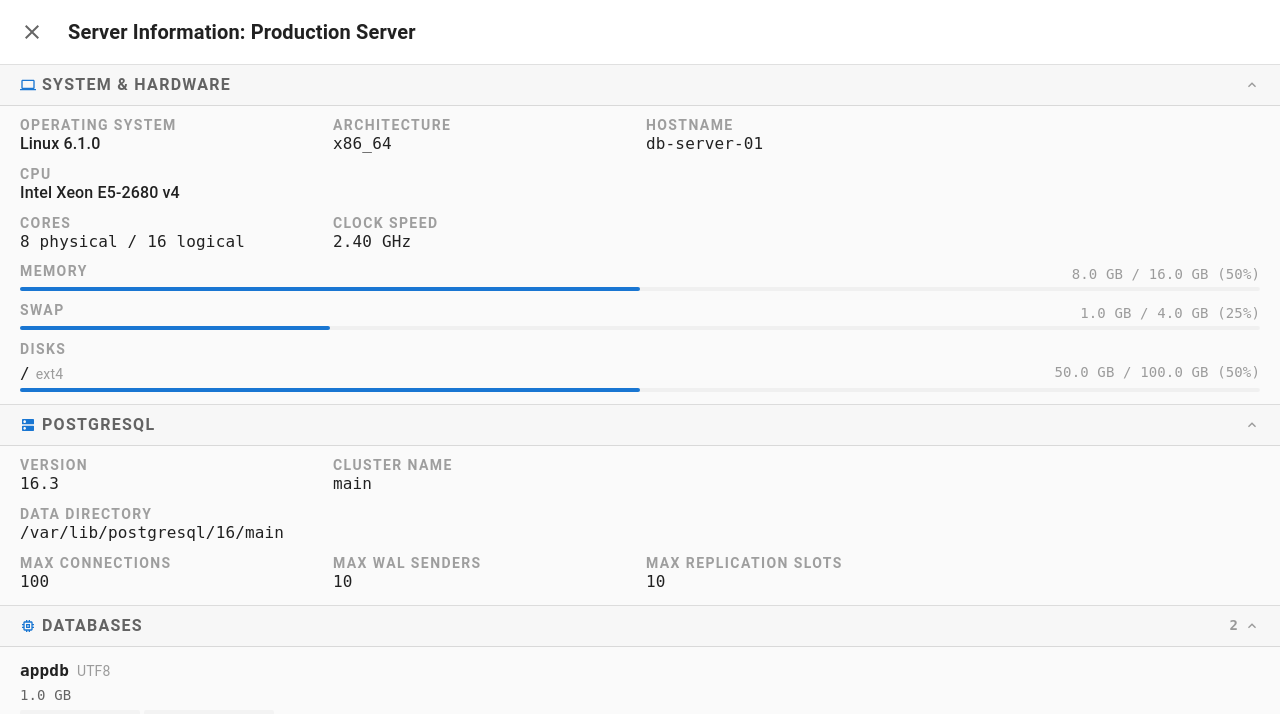
Test case: ServerInfoDialog › collapsible sections › collapses System & Hardware section on click
Expected: the text "System & Hardware" is shown, x1=42 y1=75 x2=231 y2=94
Expected: the text "Intel Xeon E5-2680 v4" is shown, x1=20 y1=183 x2=180 y2=202
Note: Click the section header to collapse
Click the button "System & Hardware": (137, 84) x1=0 y1=65 x2=1279 y2=106
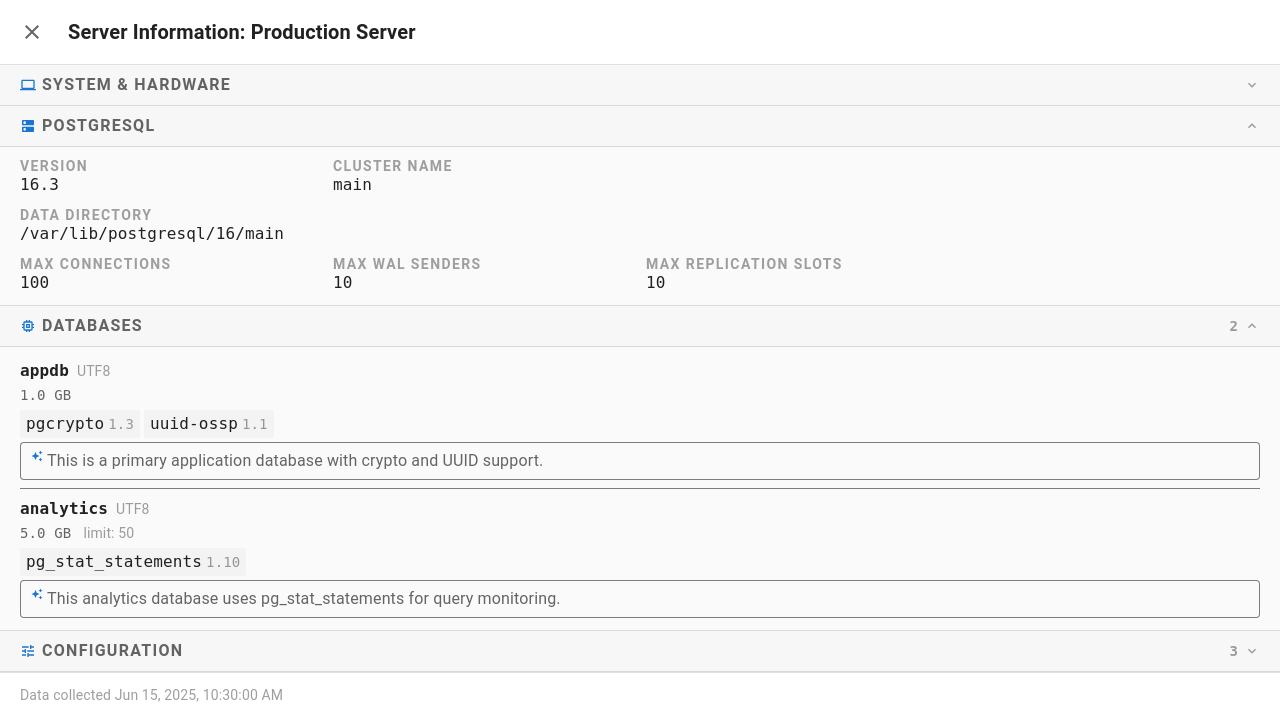
Expected: the text "Intel Xeon E5-2680 v4" is gone
